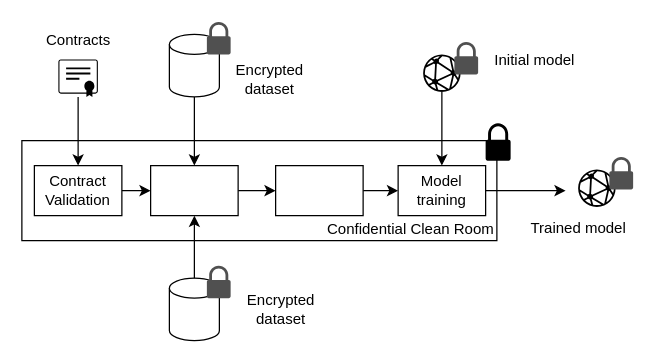
Image size: 663x363. Some labels were removed from this diagram. The box of each missing label's shape, as (x1, y1, x2, y2) in pixels:
Data ingestion: (149, 164, 238, 216)
Data pre-processing: (274, 164, 363, 216)
